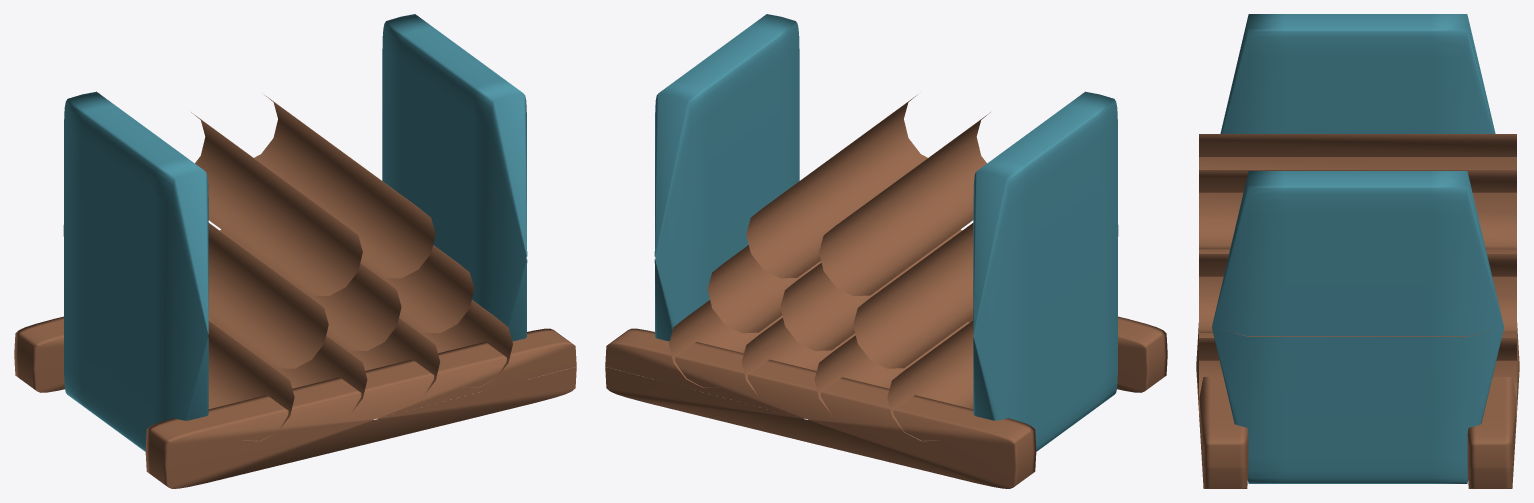
File: storage.glb
The picture shows the model from 3 angles, left to right: view 1: azimuth 30°, elevation 25°; view 2: azimuth 150°, elevation 25°; view 3: azimuth 270°, elevation 25°; orthographic projection.
Parts seen in each view (by area): view 1: rack_upright (×2), stacked_log (×9), rack_frame (×2); view 2: rack_upright (×2), stacked_log (×9), rack_frame (×2); view 3: rack_upright (×2), stacked_log (×5), rack_frame (×2).
Part boxes in pixels (<box>): rack_upright (×2): <box>63,14,527,451</box>; stacked_log (×9): <box>191,95,512,441</box>; rack_frame (×2): <box>14,316,576,488</box>; rack_upright (×2): <box>654,14,1118,451</box>; stacked_log (×9): <box>669,95,990,441</box>; rack_frame (×2): <box>605,316,1167,488</box>; rack_upright (×2): <box>1212,14,1503,483</box>; stacked_log (×5): <box>1199,134,1516,416</box>; rack_frame (×2): <box>1196,323,1519,488</box>.
Size of the model in its own units: 1.8 by 1.25 by 1.22.
